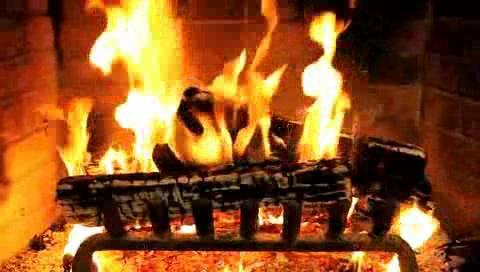fire: (71, 4, 373, 177)
